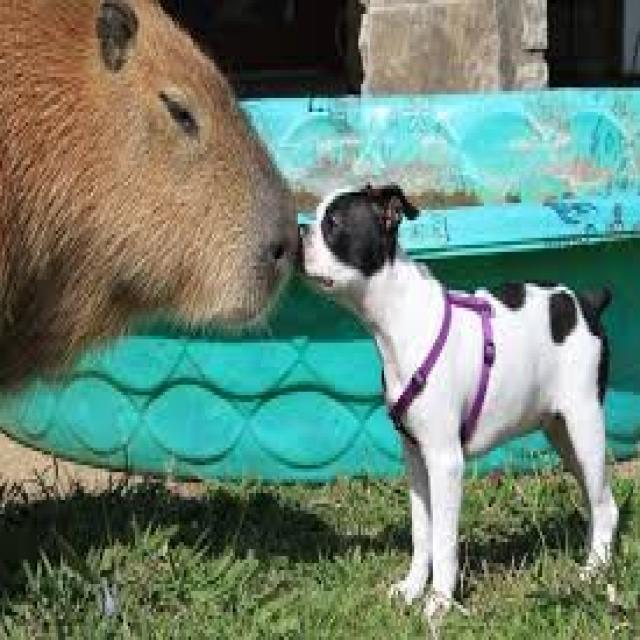capy: (0, 0, 300, 406)
